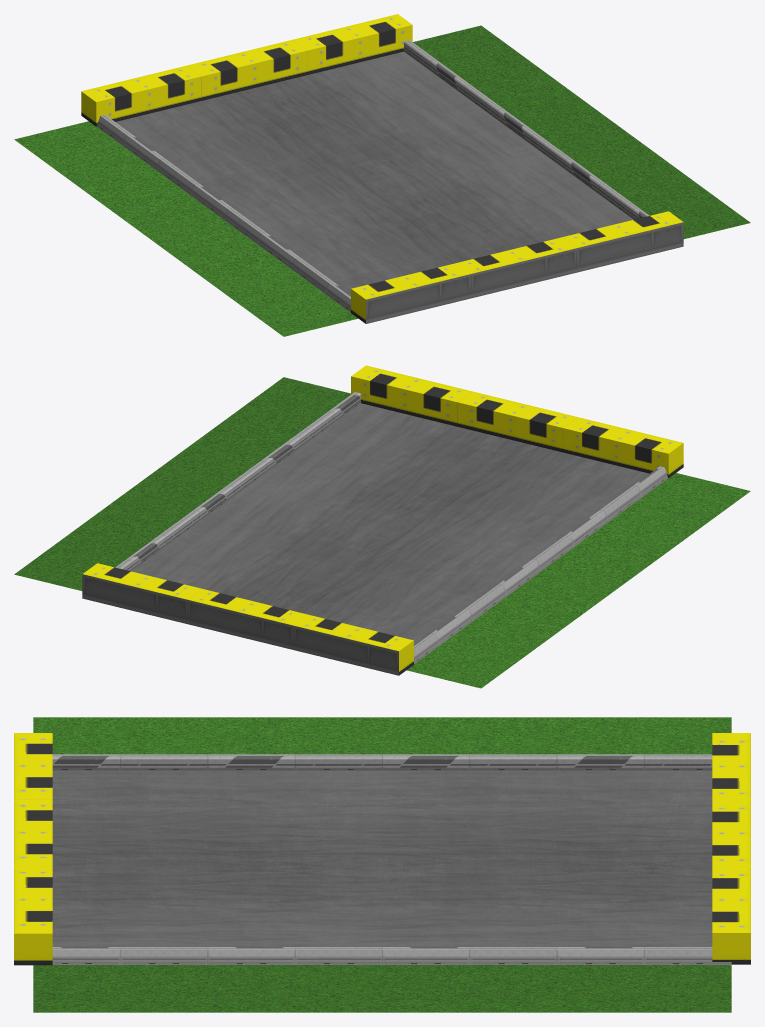
File: hazard_gap.fbx
3 views of the same model, one above another, from view 1: azimuth 30°, elevation 25°; view 2: azimuth 150°, elevation 25°; view 3: azimuth 270°, elevation 25° (orthographic). The views are drawn at different scales.
Visible parts, largest first — view 1: hazard_road, hazard_grass, ground_wall_end, ground_wall_entry, wall_straight_ground3; view 2: hazard_road, hazard_grass, ground_wall_entry, ground_wall_end, wall_straight_ground3; view 3: hazard_road, hazard_grass, wall_straight_ground3, ground_wall_end, ground_wall_entry.
Part boxes in pixels (x1,y1,x2,y2): hazard_road: [116, 51, 633, 294]; hazard_grass: [14, 25, 750, 336]; ground_wall_end: [351, 211, 683, 323]; ground_wall_entry: [81, 14, 412, 126]; wall_straight_ground3: [97, 40, 649, 312]; hazard_road: [131, 403, 648, 645]; hazard_grass: [14, 377, 750, 688]; ground_wall_entry: [82, 563, 413, 675]; ground_wall_end: [351, 365, 683, 478]; wall_straight_ground3: [115, 392, 667, 663]; hazard_road: [52, 771, 712, 946]; hazard_grass: [33, 717, 731, 1012]; wall_straight_ground3: [52, 754, 731, 964]; ground_wall_end: [14, 733, 52, 965]; ground_wall_entry: [712, 733, 750, 964].
Size of the model in its own units: 6400 by 320 by 6754.
